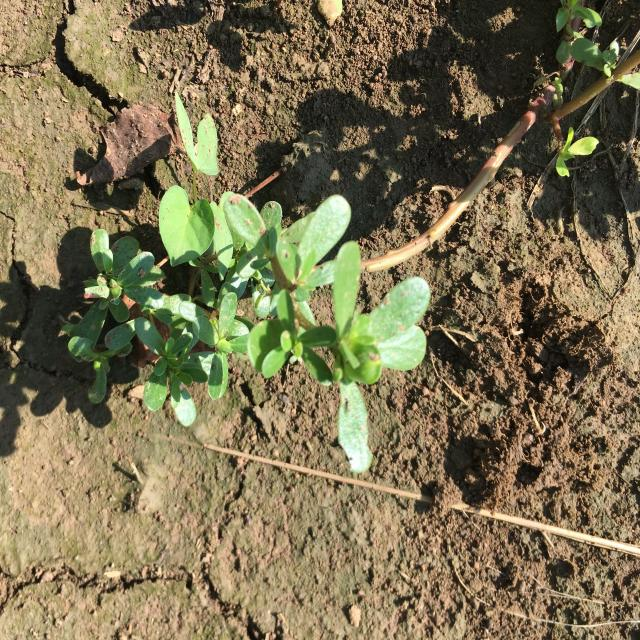Purslane: (61, 92, 431, 472)
